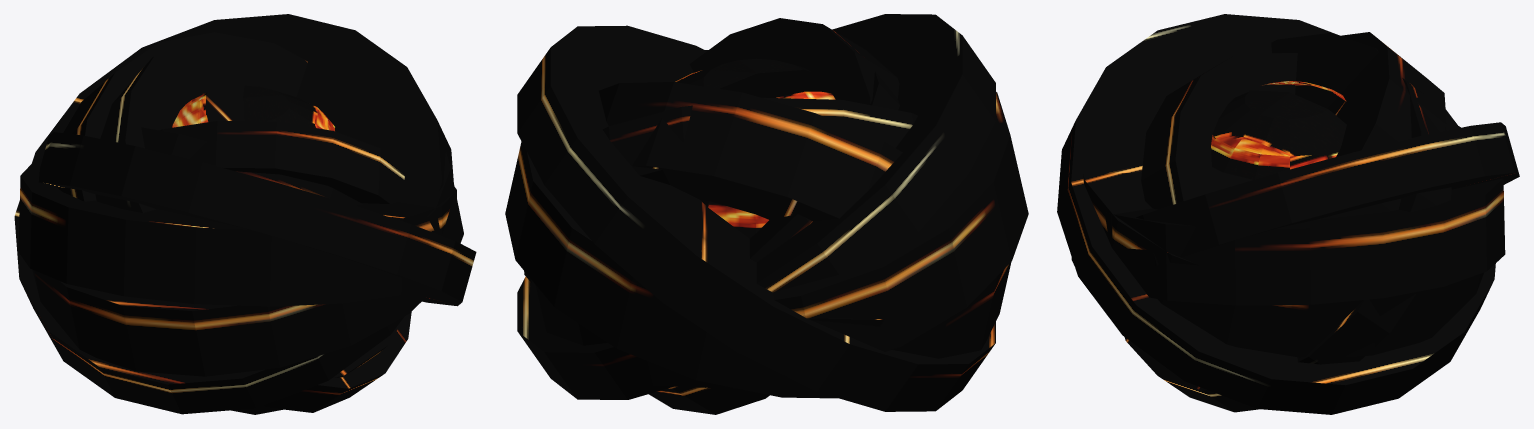
The model's file is frame_016.obj.
The picture shows the model from 3 angles, left to right: view 1: azimuth 30°, elevation 25°; view 2: azimuth 150°, elevation 25°; view 3: azimuth 270°, elevation 25°; orthographic projection. The views are drawn at different scales.
Visible parts, largest first — view 1: cylinder, sphere; view 2: cylinder, sphere; view 3: cylinder, sphere.
Part boxes in pixels (x1,y1,x2,y2): cylinder: [14, 14, 476, 414]; sphere: [172, 85, 342, 134]; cylinder: [505, 14, 1028, 414]; sphere: [675, 58, 835, 238]; cylinder: [1057, 14, 1519, 414]; sphere: [1211, 81, 1346, 179].
Bounding box in the file's own units: 1.06 × 0.8038 × 1.1.
5 materials, 5 textured.
